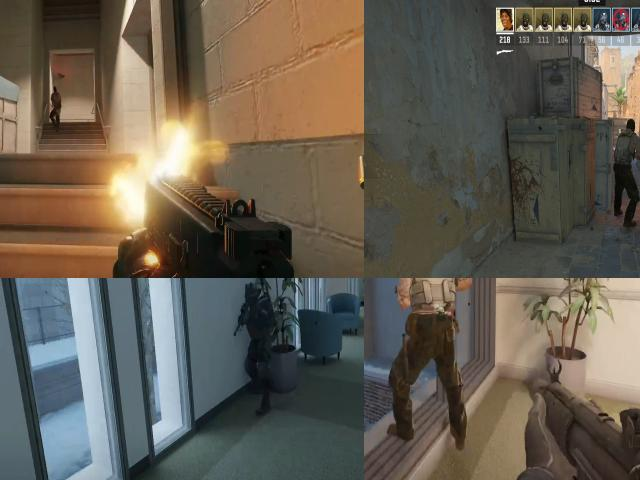CT: (240, 285, 276, 364)
CT-Head: (240, 279, 262, 312)
T: (391, 278, 470, 319), (614, 118, 638, 212), (50, 78, 64, 117)
T-Head: (51, 84, 60, 100), (627, 120, 635, 132)
